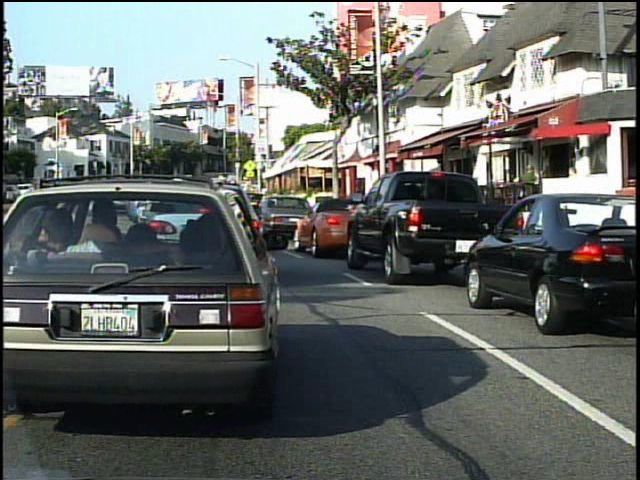person: (517, 159, 542, 223)
